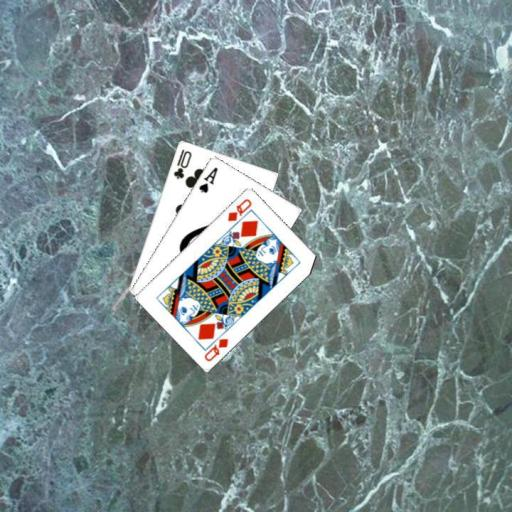10C: (170, 146, 193, 181)
AS: (196, 164, 219, 194)
QD: (201, 335, 230, 363), (225, 196, 253, 223)
